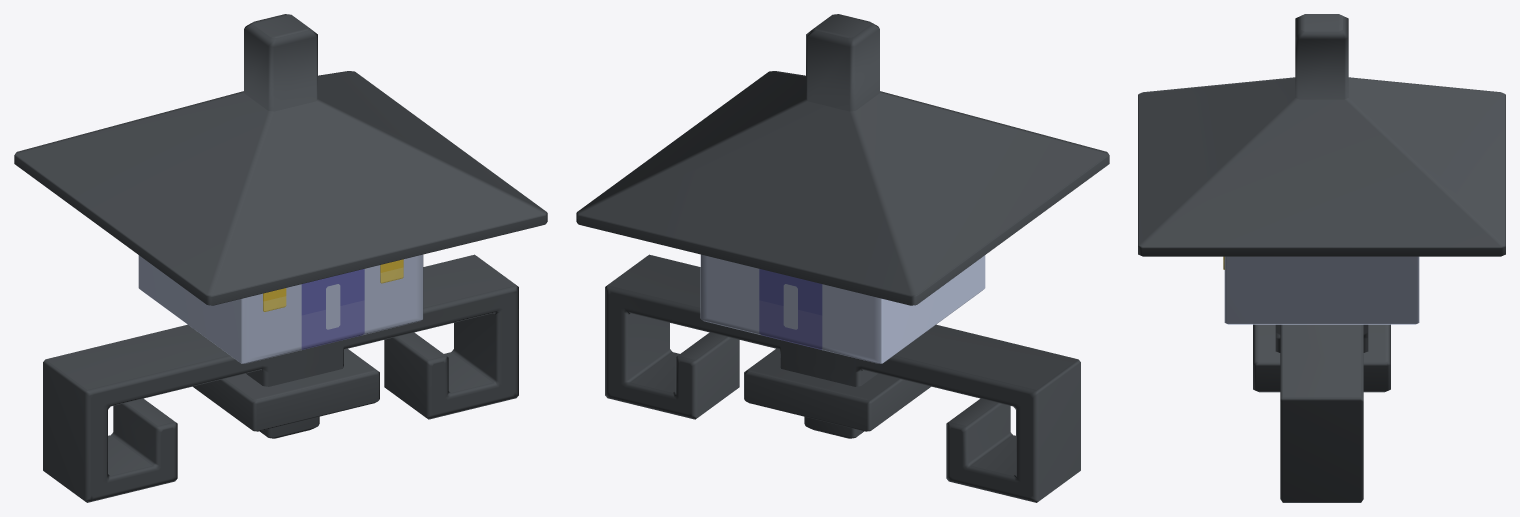
The picture shows the model from 3 angles, left to right: view 1: azimuth 30°, elevation 25°; view 2: azimuth 150°, elevation 25°; view 3: azimuth 270°, elevation 25°; orthographic projection. The views are drawn at different scales.
Parts seen in each view (by area): view 1: model; view 2: model; view 3: model.
Boxes of the visible parts, x1,y1,x2,y2 form: model: [14, 14, 547, 502]; model: [576, 14, 1109, 502]; model: [1138, 14, 1505, 502].
Bounding box in the file's own units: 2.5 × 2.25 × 1.96.
